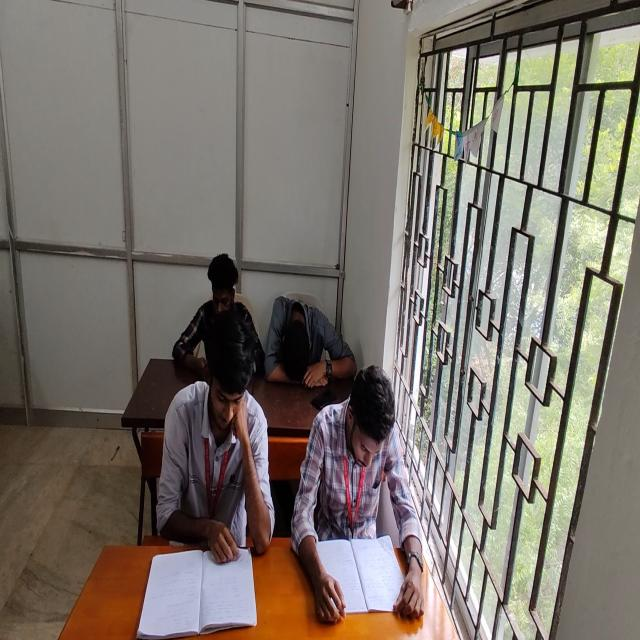reading: (292, 364, 416, 625), (156, 312, 275, 566)
sleeping: (264, 295, 354, 388)
using_mobile: (172, 253, 264, 383)
